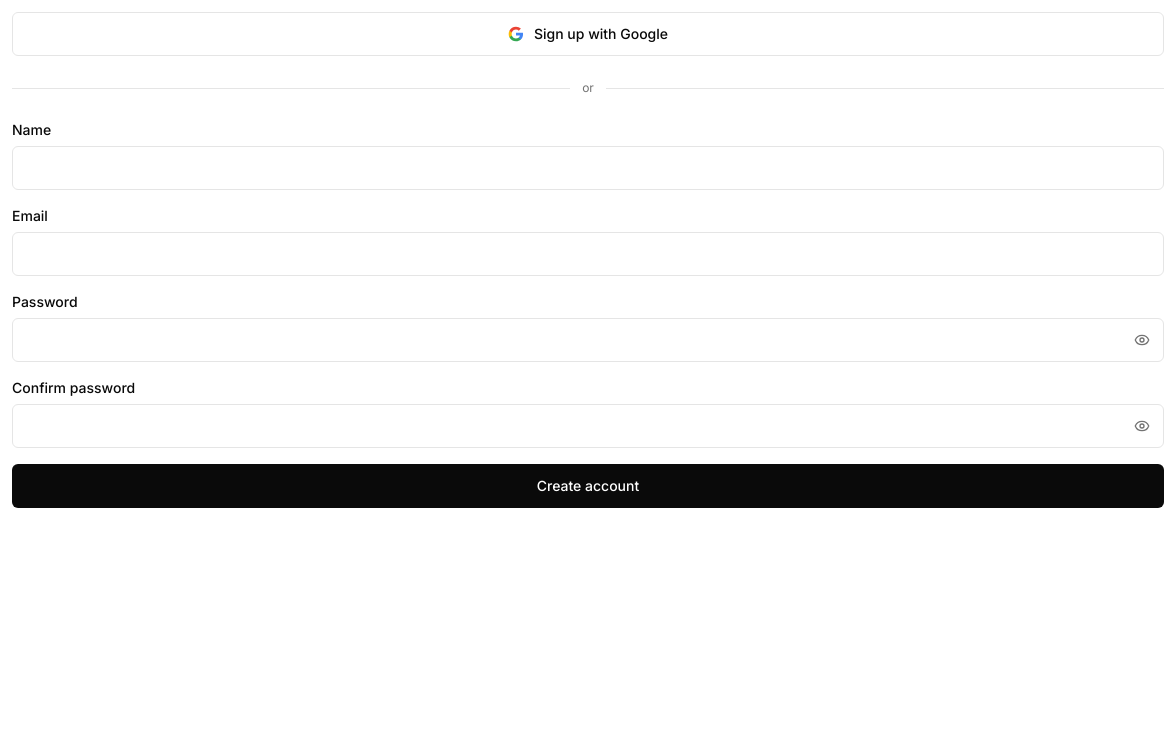
Scenario: SignUp › clears a field's error once it's edited
The image size is (1176, 732).
In the field labelled "Name": (588, 168) [12, 146, 1164, 190], type "Ada Lovelace"
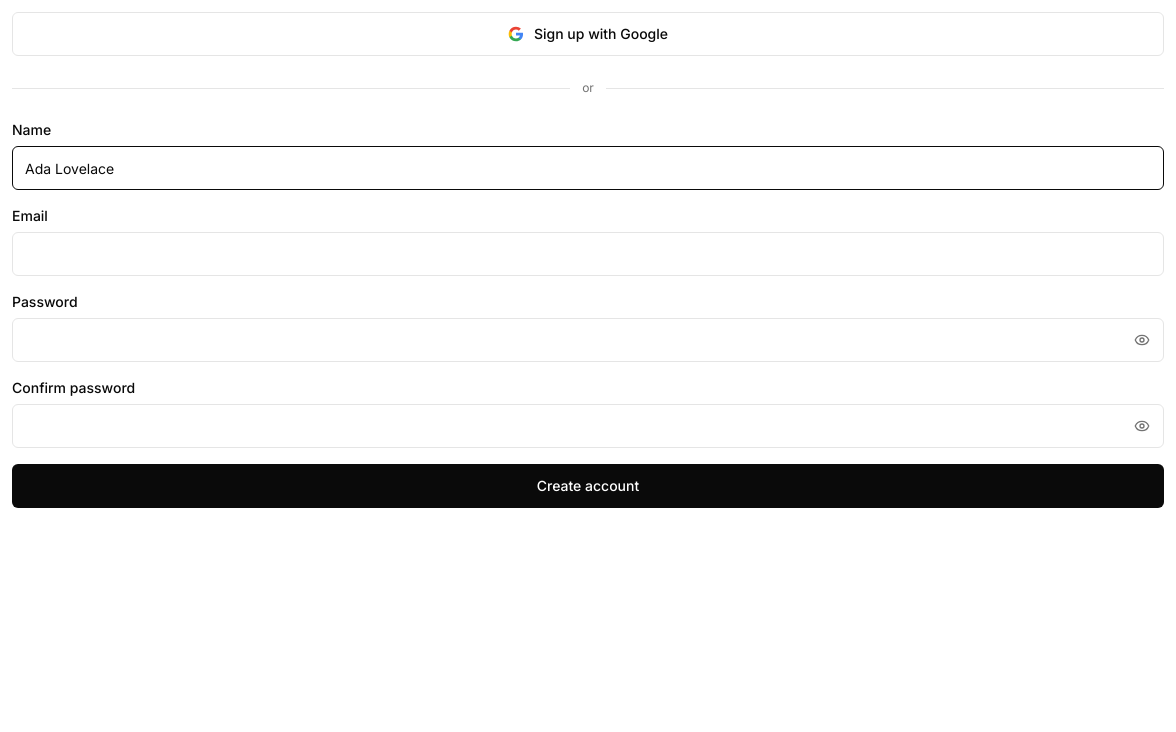
In the field labelled "Email": (588, 254) [12, 232, 1164, 276], type "ada@example.test"
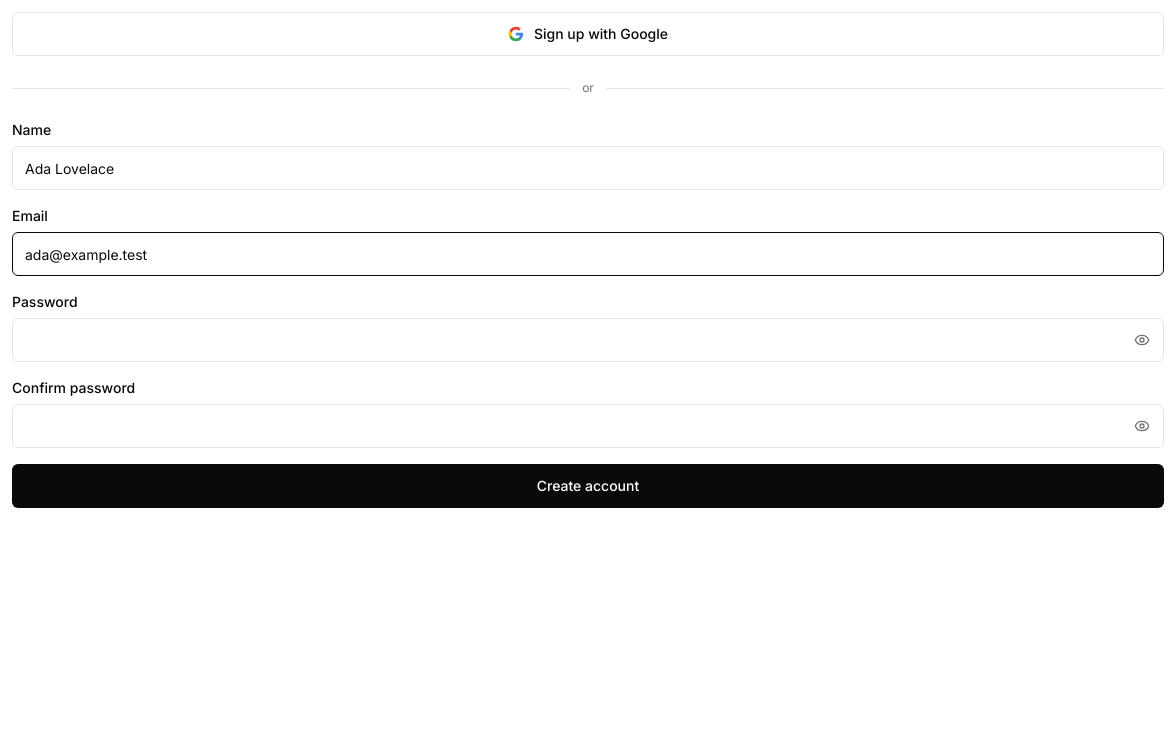
In the password field labelled "Password": (588, 340) [12, 318, 1164, 362], type "abc"
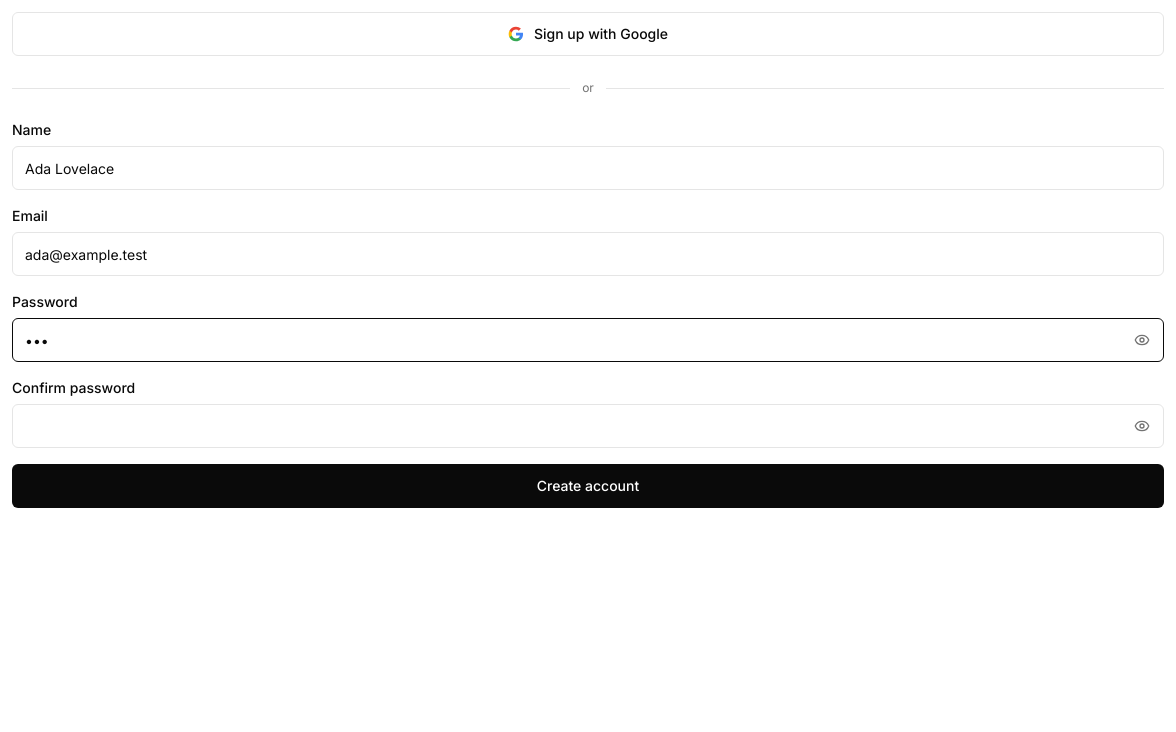
In the password field labelled "Confirm password": (588, 426) [12, 404, 1164, 448], type "abc"
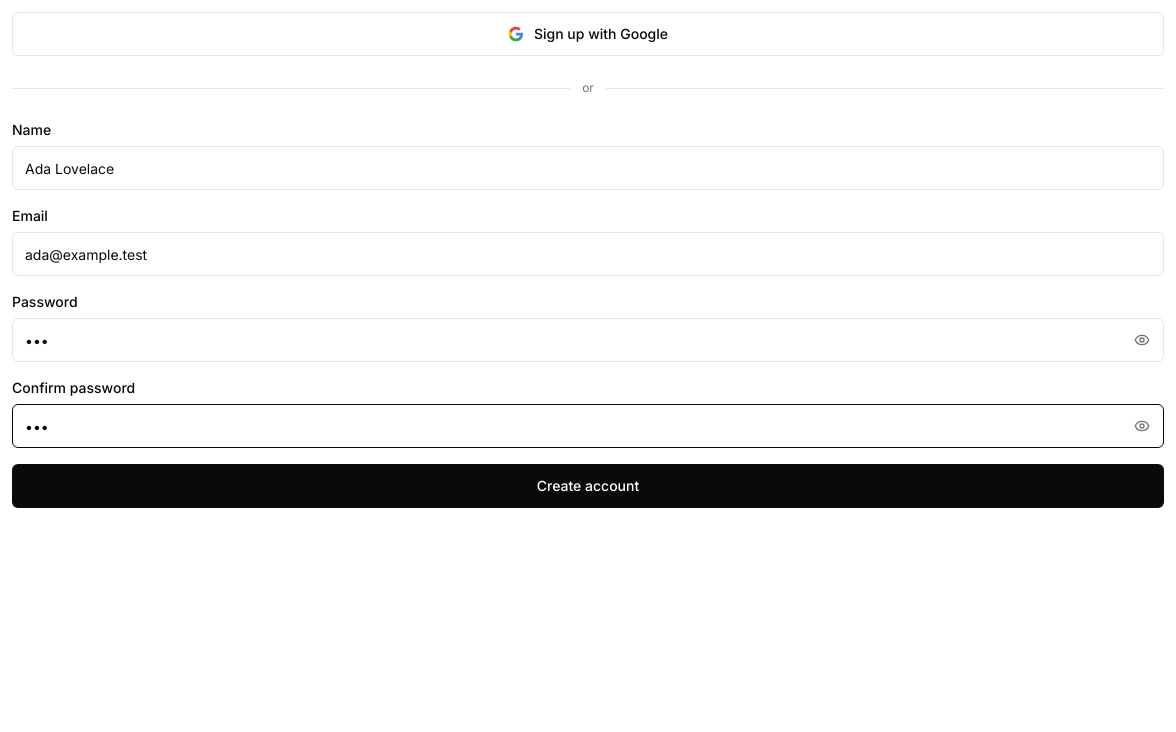
Click the button "Create account": (588, 486) [12, 464, 1164, 508]
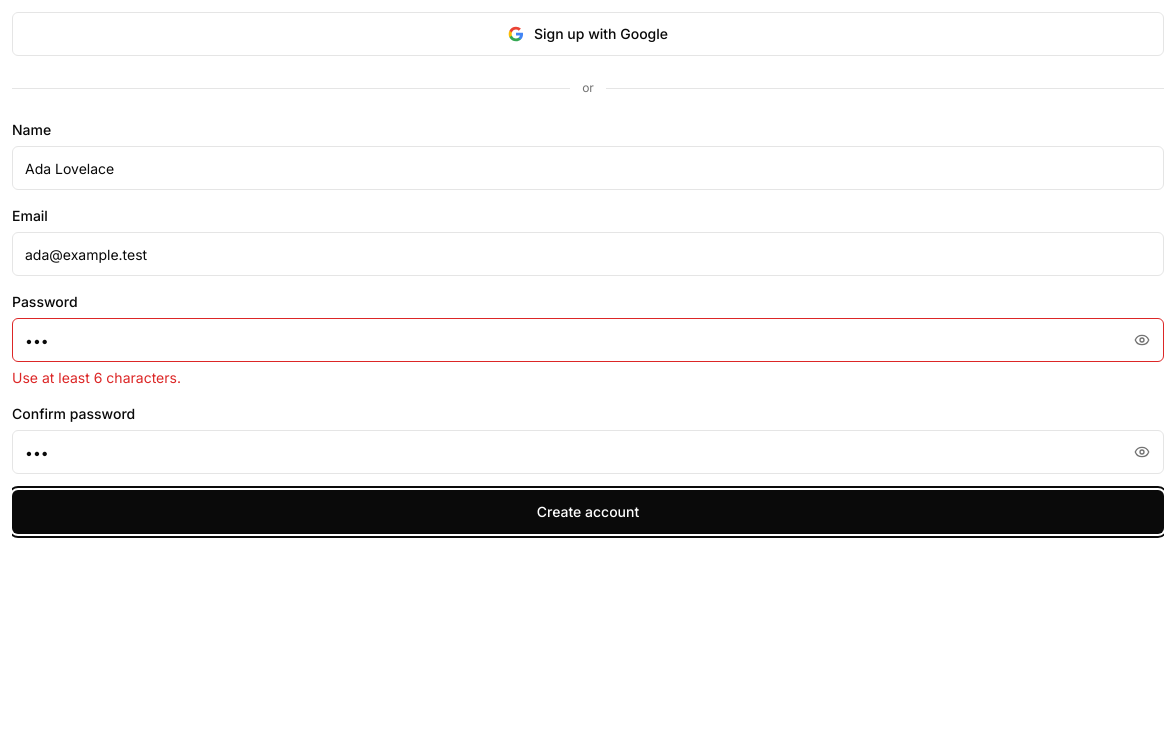
Expected: the text "Use at least 6 characters." is shown, [12, 369, 181, 386]
In the password field labelled "Password": (588, 340) [12, 318, 1164, 362], type "def"
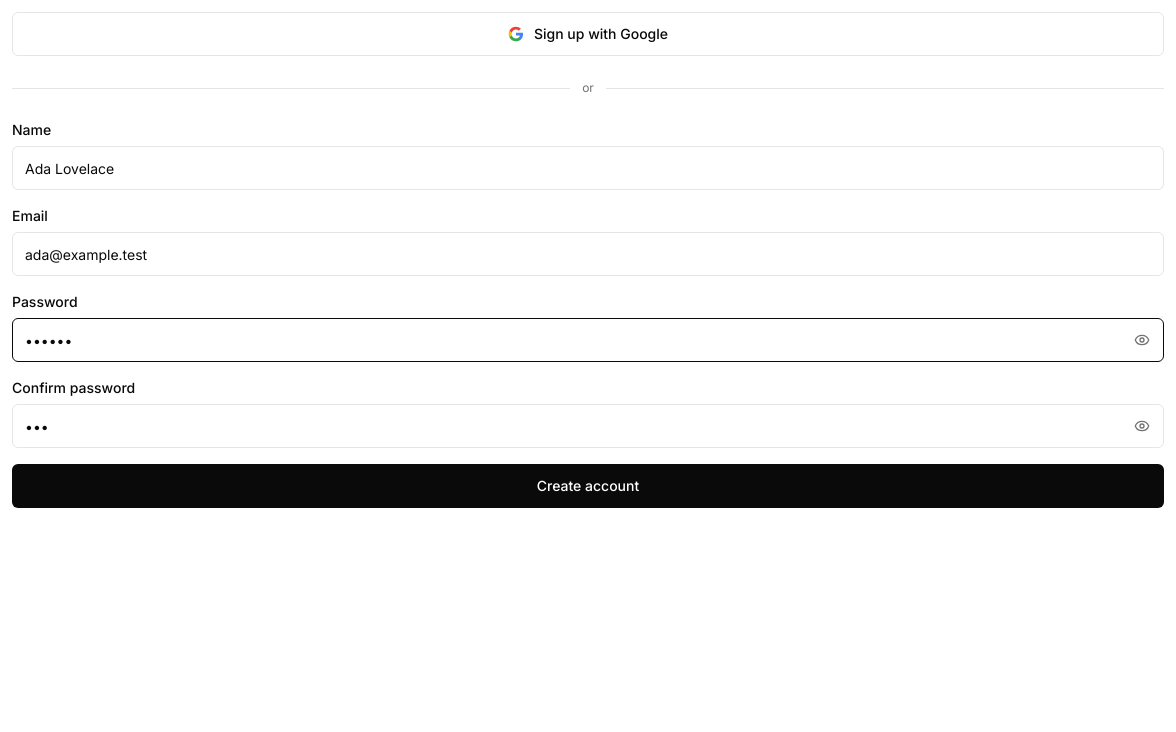
Expected: the text "Use at least 6 characters." is gone
